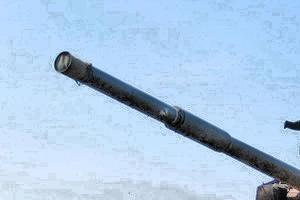tanks: (56, 54, 300, 200), (286, 123, 300, 132)
